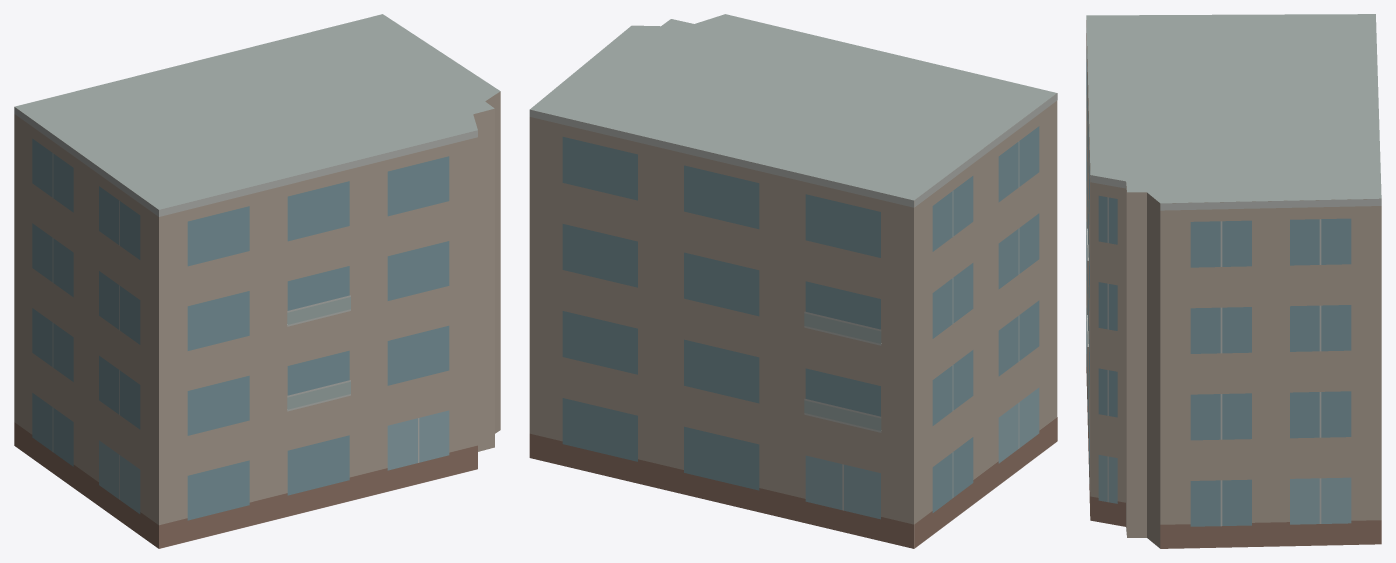
The model's file is survey-upis-32972657.glb.
3 views of the same model, side by side, from view 1: azimuth 30°, elevation 25°; view 2: azimuth 150°, elevation 25°; view 3: azimuth 270°, elevation 25° (orthographic). The views are drawn at different scales.
Parts seen in each view (by area): view 1: survey-upis-32972657.tmp; view 2: survey-upis-32972657.tmp; view 3: survey-upis-32972657.tmp.
Boxes of the visible parts, box(x1,y1,x2,y2) form: survey-upis-32972657.tmp: box(14, 14, 500, 548); survey-upis-32972657.tmp: box(529, 14, 1057, 548); survey-upis-32972657.tmp: box(1086, 14, 1381, 548).
Bounding box in the file's own units: 13.76 × 11.7 × 9.07.
